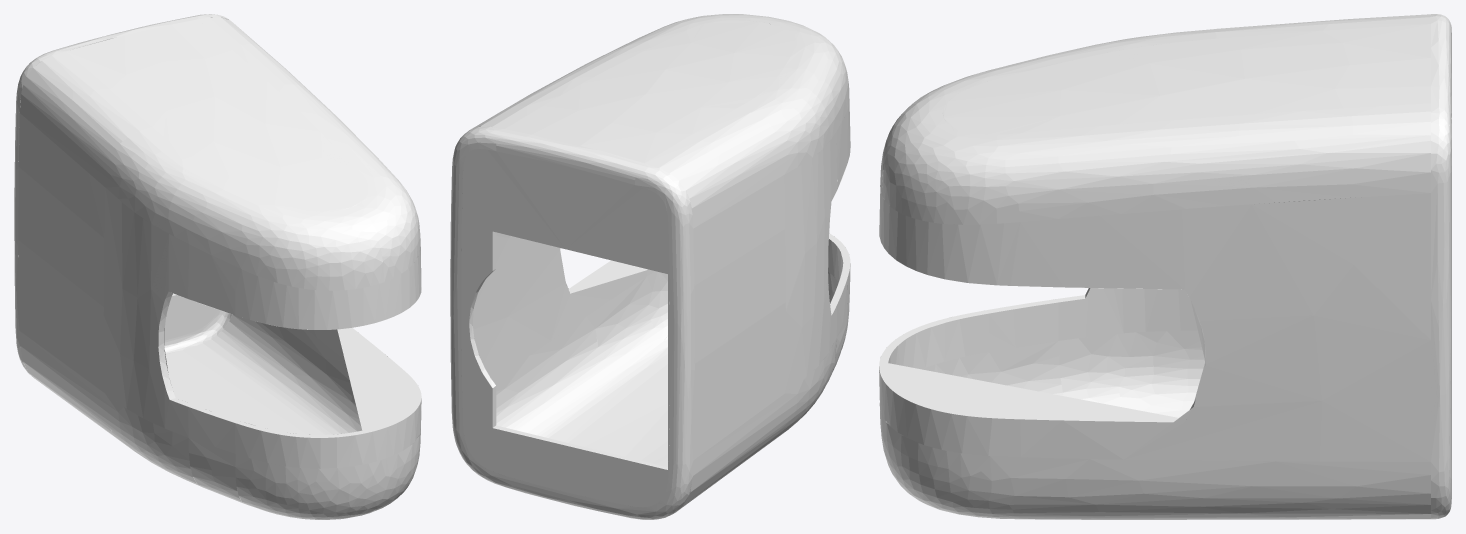
File: arm_roll.obj
3 views of the same model, side by side, from view 1: azimuth 30°, elevation 25°; view 2: azimuth 150°, elevation 25°; view 3: azimuth 270°, elevation 25° (orthographic). The views are drawn at different scales.
Visible parts, largest first — view 1: Arm_Roll_Arm_Roll; view 2: Arm_Roll_Arm_Roll; view 3: Arm_Roll_Arm_Roll.
Boxes of the visible parts, left/top/right/bottom form: Arm_Roll_Arm_Roll: left=14, top=14, right=421, bottom=519; Arm_Roll_Arm_Roll: left=450, top=14, right=850, bottom=519; Arm_Roll_Arm_Roll: left=879, top=14, right=1451, bottom=519.
Size of the model in its own units: 0.0768 by 0.1092 by 0.1365.
